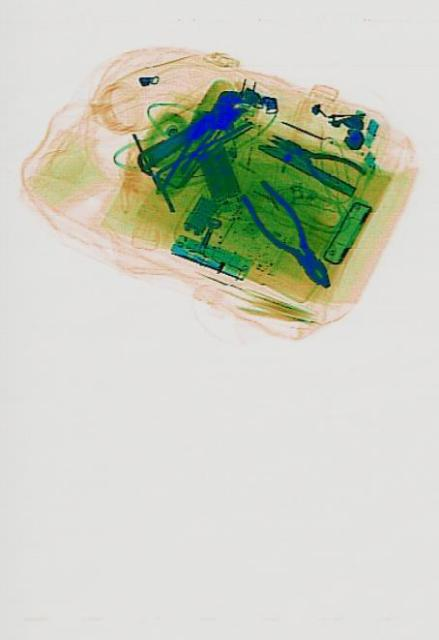Pliers: (235, 168, 340, 302), (261, 115, 366, 201)
Wrench: (131, 78, 250, 180)
